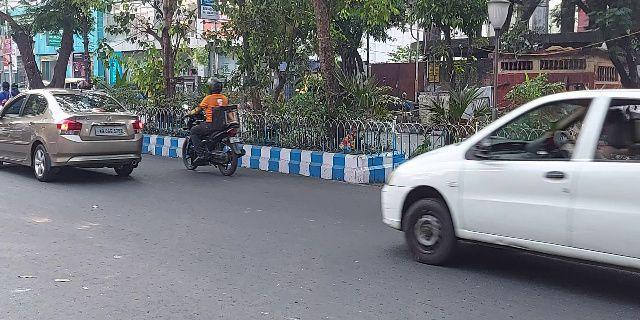Car: (374, 87, 640, 282), (1, 84, 145, 183)
Motorbike: (177, 77, 247, 178)
